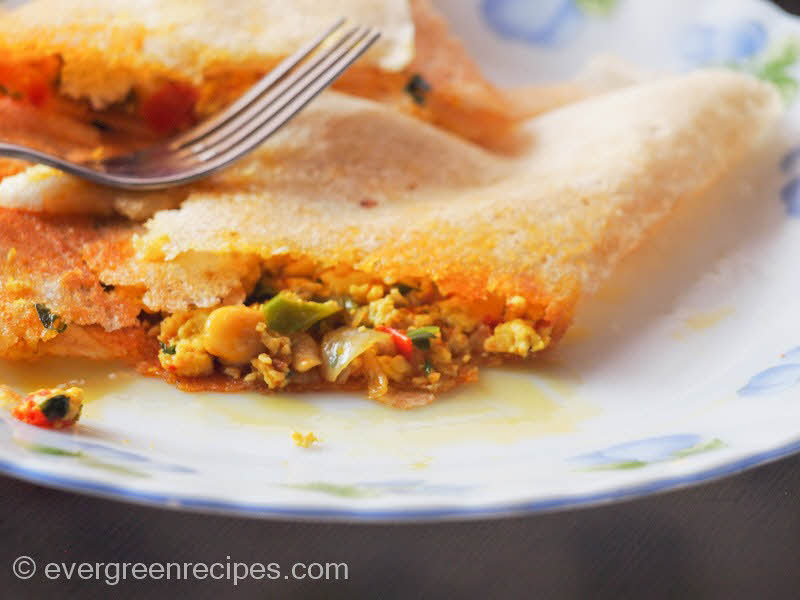dosa: (6, 6, 800, 433)
